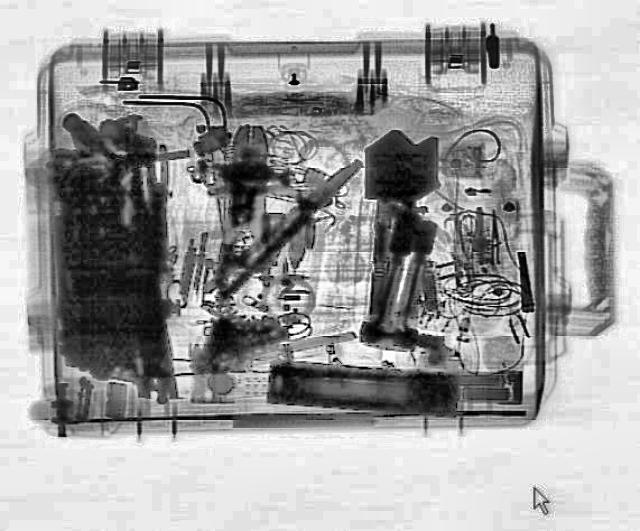Pliers: (191, 150, 373, 306), (217, 125, 271, 305)
